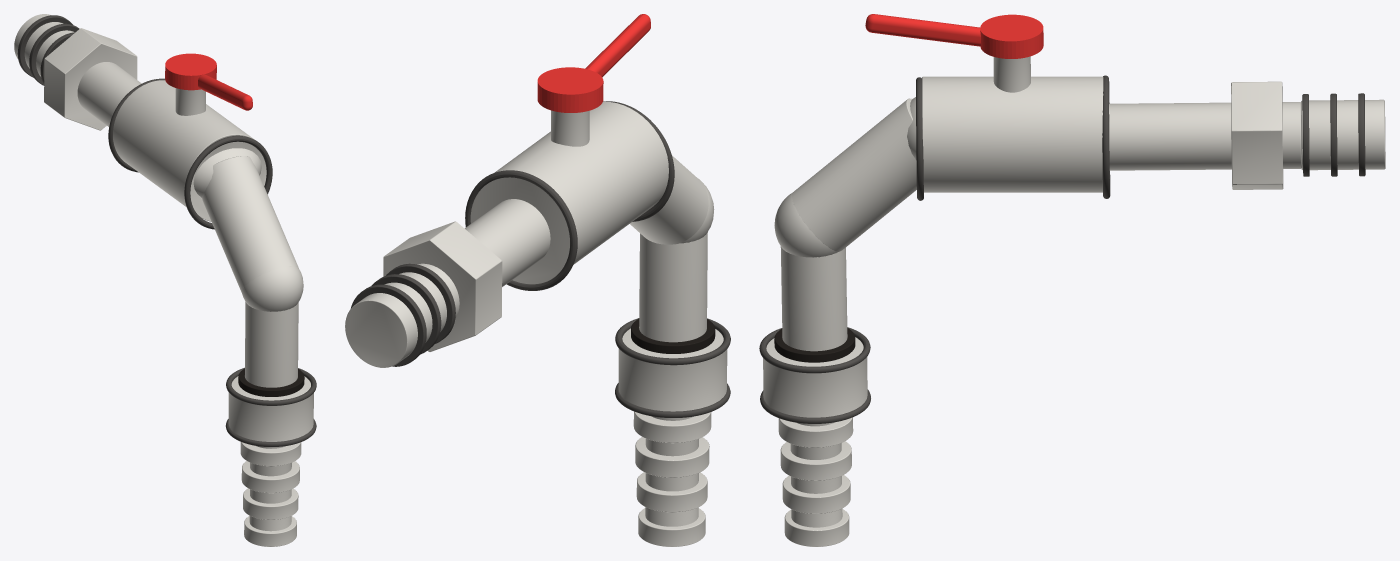
File: garden_faucet.glb
3 renders of one model, left to right at view 1: azimuth 30°, elevation 25°; view 2: azimuth 150°, elevation 25°; view 3: azimuth 270°, elevation 25°, orthographic. The views are drawn at different scales.
Parts seen in each view (by area): view 1: garden_faucet.006; view 2: garden_faucet.006; view 3: garden_faucet.006.
Boxes of the visible parts, x1,y1,x2,y2 form: garden_faucet.006: (14, 14, 316, 546); garden_faucet.006: (345, 14, 730, 546); garden_faucet.006: (759, 14, 1385, 546).
Bounding box in the file's own units: 0.1423 × 0.6585 × 0.72.
